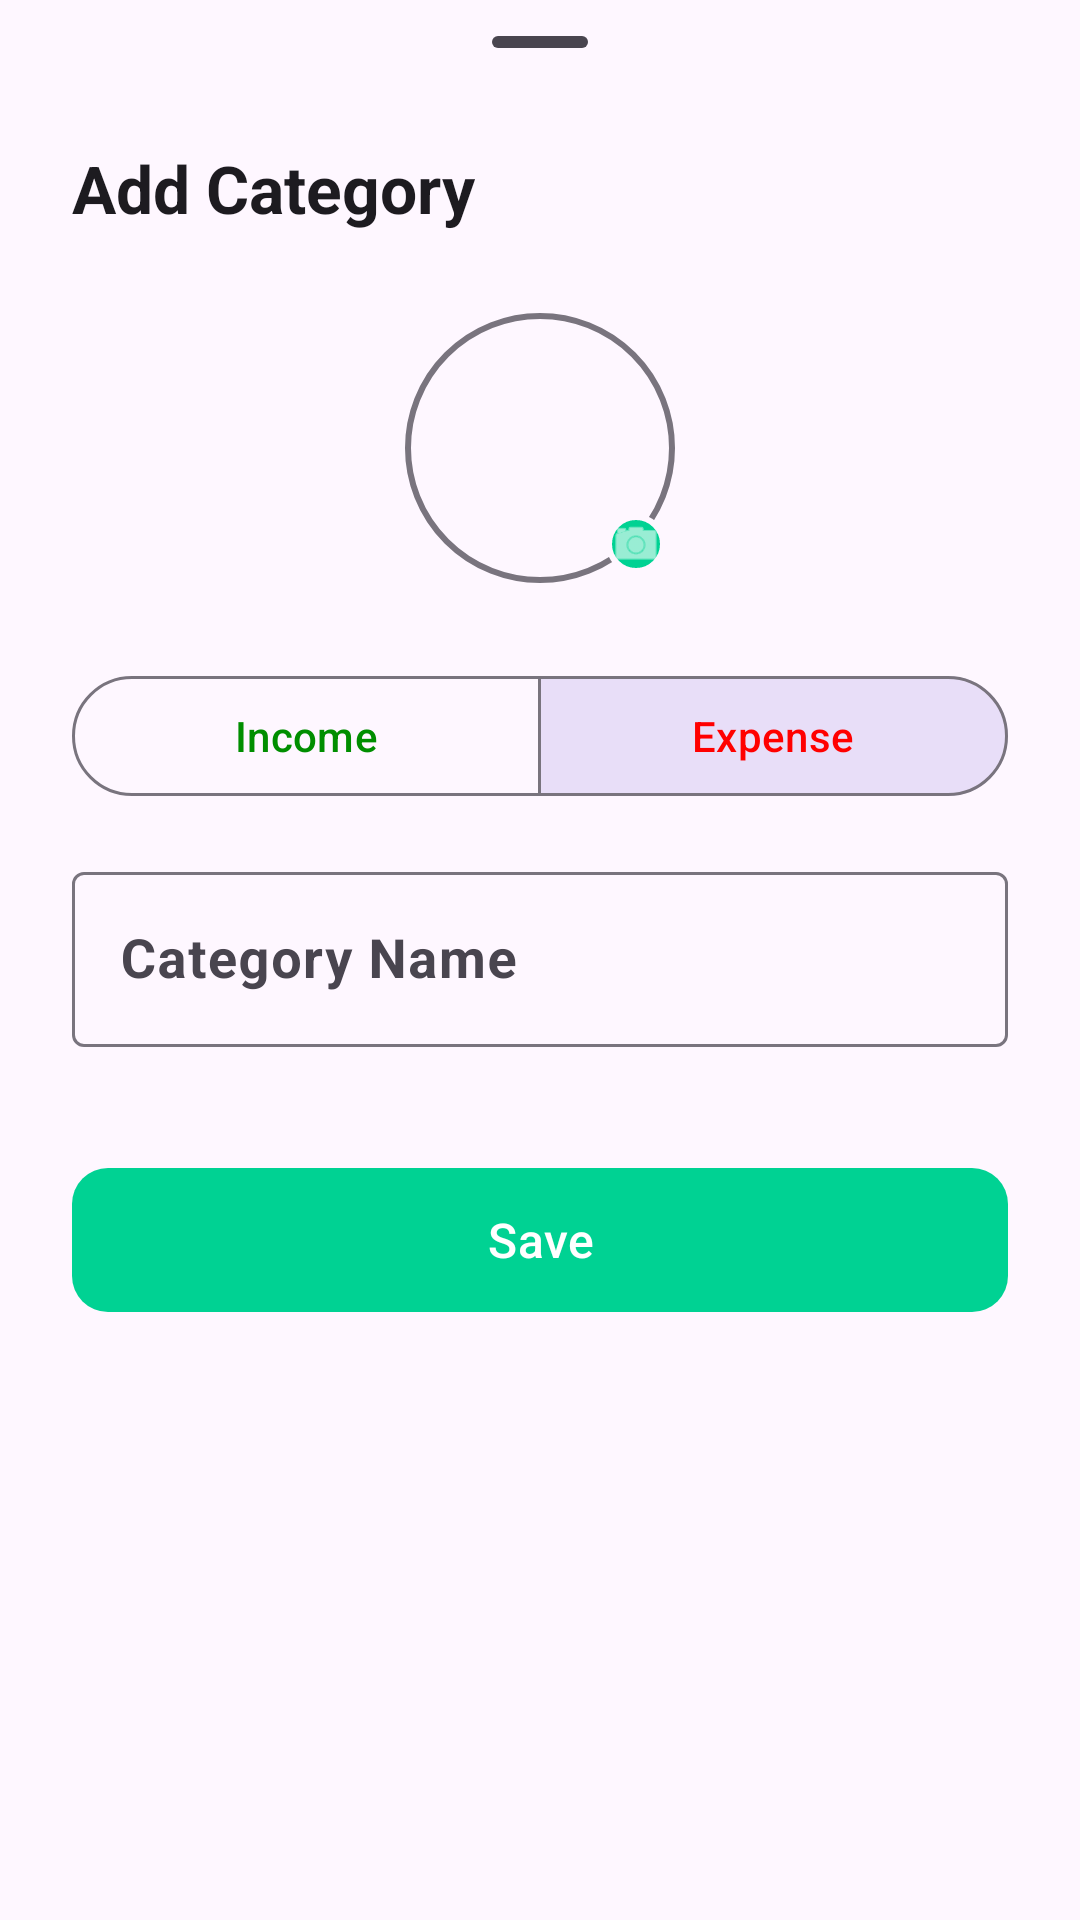

Where to tap for icons on this 1080w x 1920h app screen, as [x,y]:
camera: [636,544]
